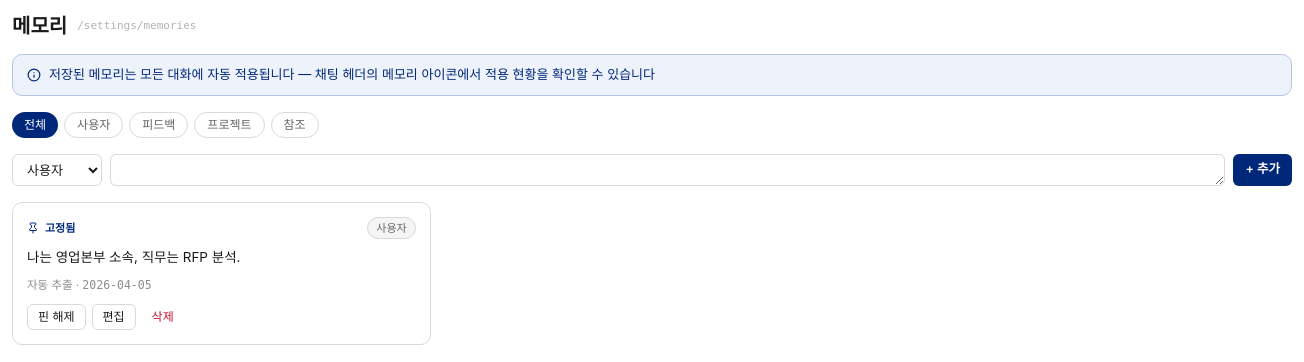
Test: MemoryManager › 삭제 버튼으로 메모리를 제거한다
Check: the text "나는 영업본부 소속, 직무는 RFP 분석." is shown, box [27,249,240,265]
Click the button "삭제": point(163, 317) [142,304,184,330]
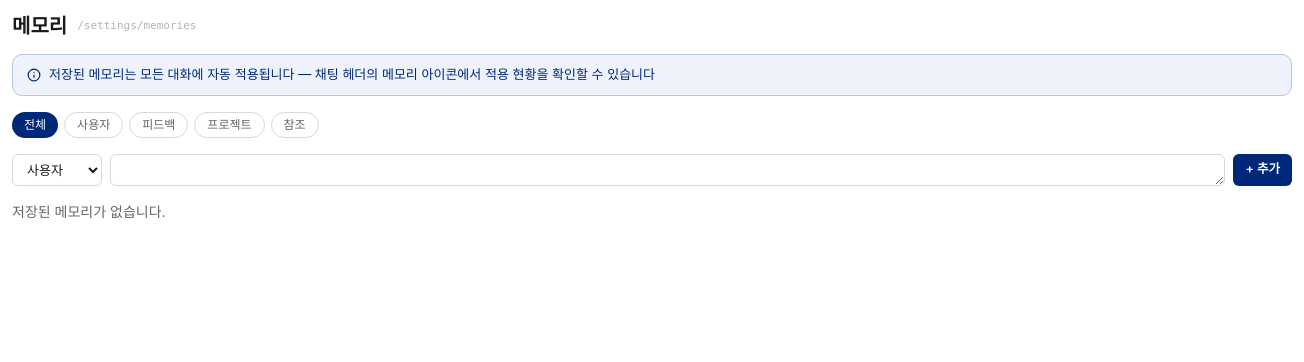
Check: the text "저장된 메모리가 없습니다." is shown, box [12,202,166,220]
